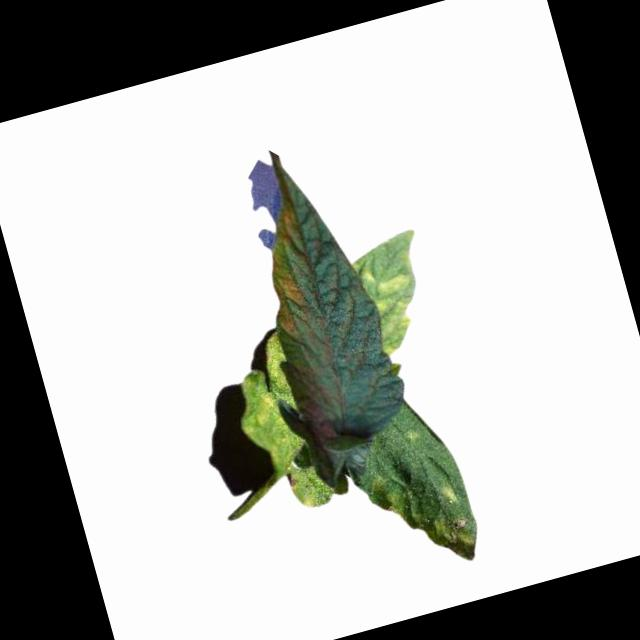Leaf_Mold: (367, 454, 485, 581), (221, 333, 316, 478), (353, 247, 430, 358), (266, 258, 320, 339), (272, 200, 306, 247)
